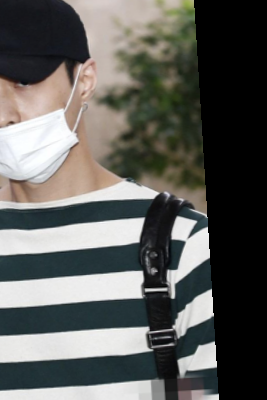mask_weared_incorrect: (1, 2, 95, 203)
